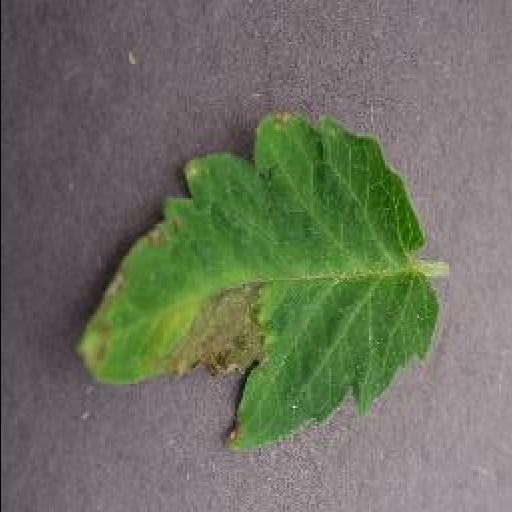disease_tomato: (72, 112, 442, 450)
